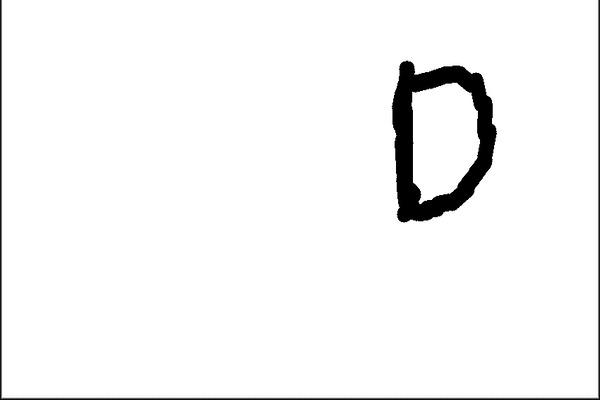D: (385, 55, 504, 226)
